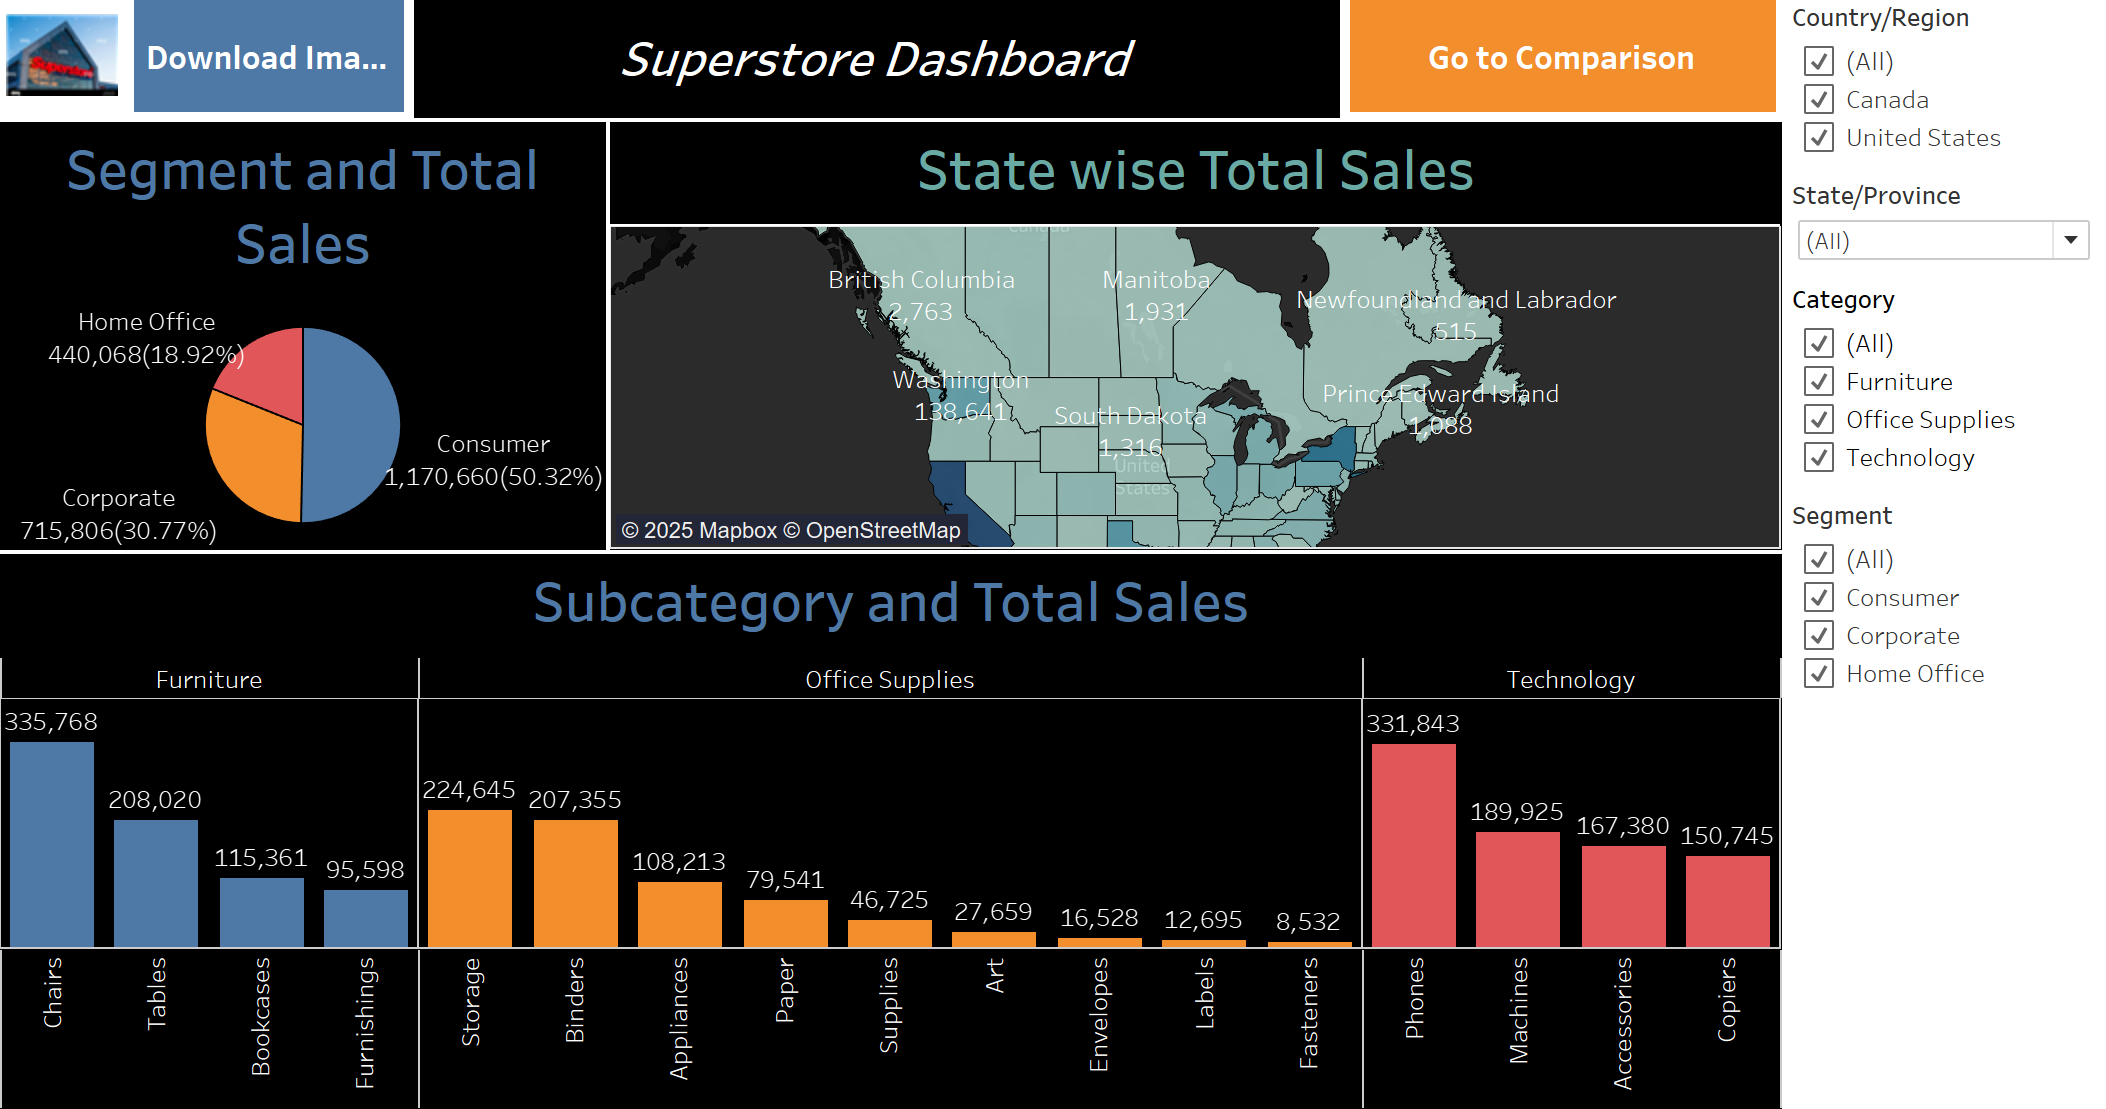

This screenshot's page, from the dashboard's own definition file:
{"tool":"tableau","page":{"name":"Dashboard 1","canvas":[1000,1000],"units":"permille","ordinal":0},"visuals":[{"type":"image","param":"Image/icon.jpg","box":[7.2,13.9,59.9,111]},{"type":"dashboard-object","box":[67.1,13.9,135.5,111]},{"type":"text","box":[202.5,13.9,438,111]},{"type":"dashboard-object","box":[640.5,13.9,208,111]},{"type":"filter","title":"Map","param":"[federated.1lx2g211iqtzpp12ytqeb0pgtonb].[none:Country/Region:nk]","box":[848.5,13.9,144.3,154.5]},{"type":"dashboard-object","box":[815.1,24.3,27.1,86.8]},{"type":"worksheet","title":"Pie chart","mark":"Pie","box":[7.2,124.9,287.6,375.1]},{"type":"worksheet","title":"Map","mark":"Multipolygon","box":[294.8,124.9,553.7,375.1]},{"type":"filter","title":"Map","param":"[federated.1lx2g211iqtzpp12ytqeb0pgtonb].[none:State/Province:nk]","box":[848.5,168.4,144.3,90.3]},{"type":"filter","title":"Bar chart","param":"[federated.1lx2g211iqtzpp12ytqeb0pgtonb].[none:Category:nk]","box":[848.5,258.7,144.3,187.5]},{"type":"filter","title":"Pie chart","param":"[federated.1lx2g211iqtzpp12ytqeb0pgtonb].[none:Segment:nk]","box":[848.5,446.2,144.3,187.5]},{"type":"worksheet","title":"Bar chart","mark":"Automatic","rows":["Sales"],"cols":["Category","Sub-Category"],"box":[7.2,500,841.3,486.1]}]}

Visuals, with their boxes on the dashboard's canvas, which has no fixed pixel size, in thousandths of its width and height (x1, y1, x2, y2). These are canvas units, not pixel positions in the 2106x1109 screenshot, which may show the page scaled, cropped or inside an application window:
image: x1=7, y1=14, x2=67, y2=125
dashboard-object: x1=67, y1=14, x2=203, y2=125
text: x1=202, y1=14, x2=640, y2=125
dashboard-object: x1=640, y1=14, x2=848, y2=125
"Map" filter: x1=848, y1=14, x2=993, y2=168
dashboard-object: x1=815, y1=24, x2=842, y2=111
"Pie chart" worksheet (Pie marks): x1=7, y1=125, x2=295, y2=500
"Map" worksheet (Multipolygon marks): x1=295, y1=125, x2=848, y2=500
"Map" filter: x1=848, y1=168, x2=993, y2=259
"Bar chart" filter: x1=848, y1=259, x2=993, y2=446
"Pie chart" filter: x1=848, y1=446, x2=993, y2=634
"Bar chart" worksheet: x1=7, y1=500, x2=848, y2=986
